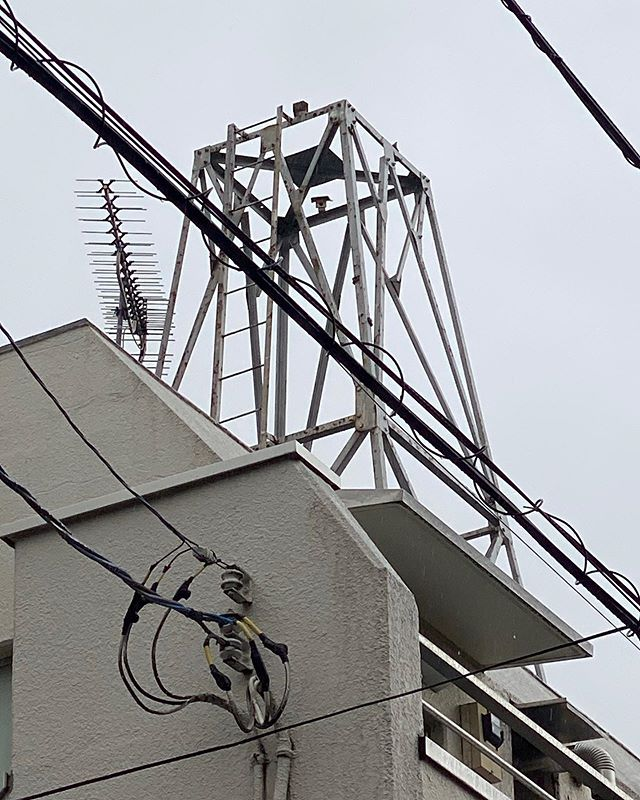building: (9, 333, 640, 793)
sky: (1, 1, 627, 453)
